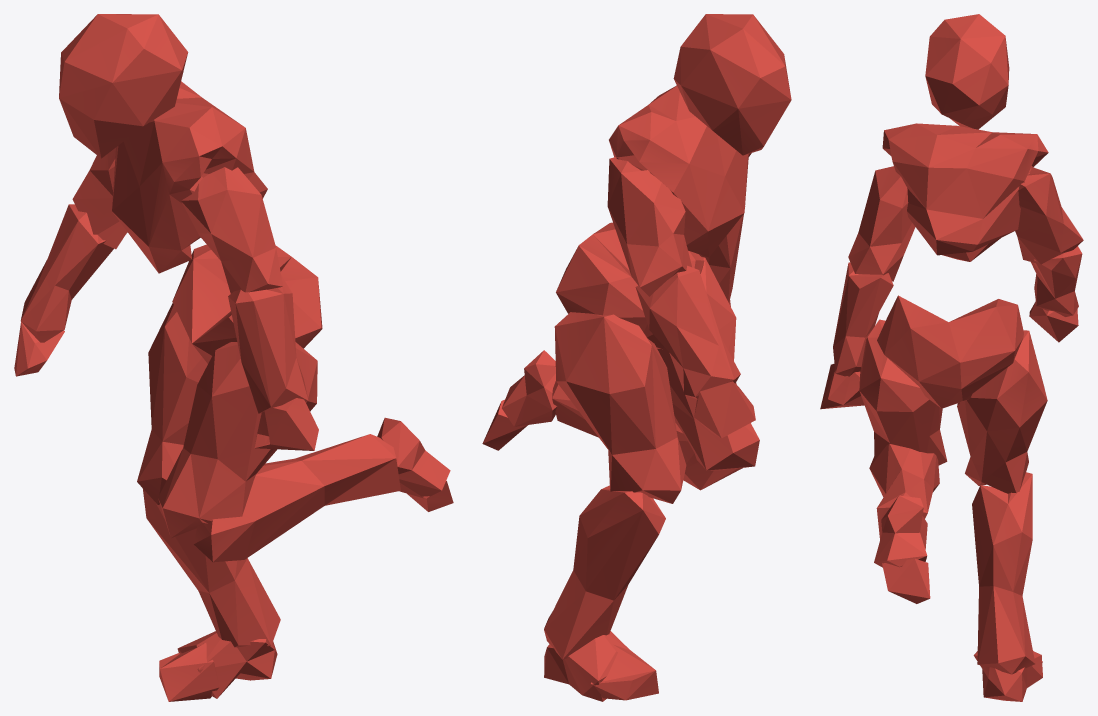
The model's file is 2dancer0199.obj.
3 views of the same model, side by side, from view 1: azimuth 30°, elevation 25°; view 2: azimuth 150°, elevation 25°; view 3: azimuth 270°, elevation 25° (orthographic). The views are drawn at different scales.
Visible parts, largest first — view 1: Beta_Surface; view 2: Beta_Surface; view 3: Beta_Surface.
Part boxes in pixels (x1,y1,x2,y2): Beta_Surface: (14,14,453,701); Beta_Surface: (482,14,791,701); Beta_Surface: (820,14,1083,701).
Bounding box in the file's own units: 0.8833 × 1.73 × 0.6687.
